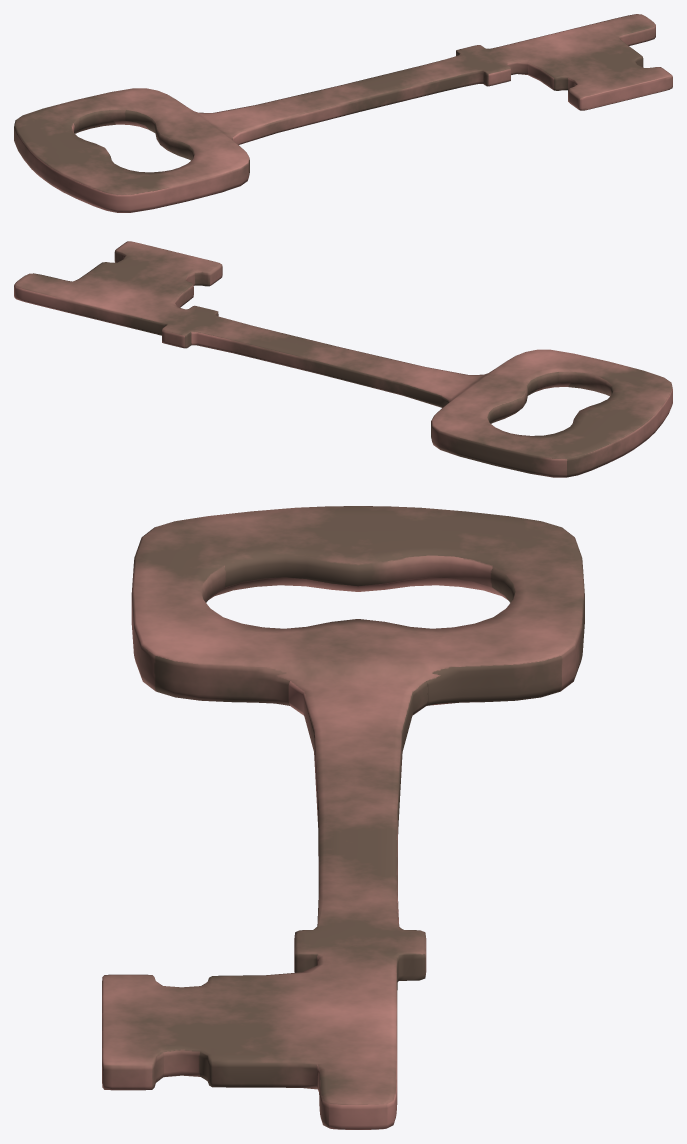
Rendered from Key.fbx.
3 views of the same model, one above another, from view 1: azimuth 30°, elevation 25°; view 2: azimuth 150°, elevation 25°; view 3: azimuth 270°, elevation 25° (orthographic). The views are drawn at different scales.
Visible parts, largest first — view 1: Plane; view 2: Plane; view 3: Plane.
Part boxes in pixels (box(x1,y1,x2,y2)): Plane: box(14, 14, 672, 212); Plane: box(14, 241, 672, 477); Plane: box(102, 506, 584, 1129).
Size of the model in its own units: 27 by 0.9195 by 9.32.
Materials: 1 (1 with a texture image).
